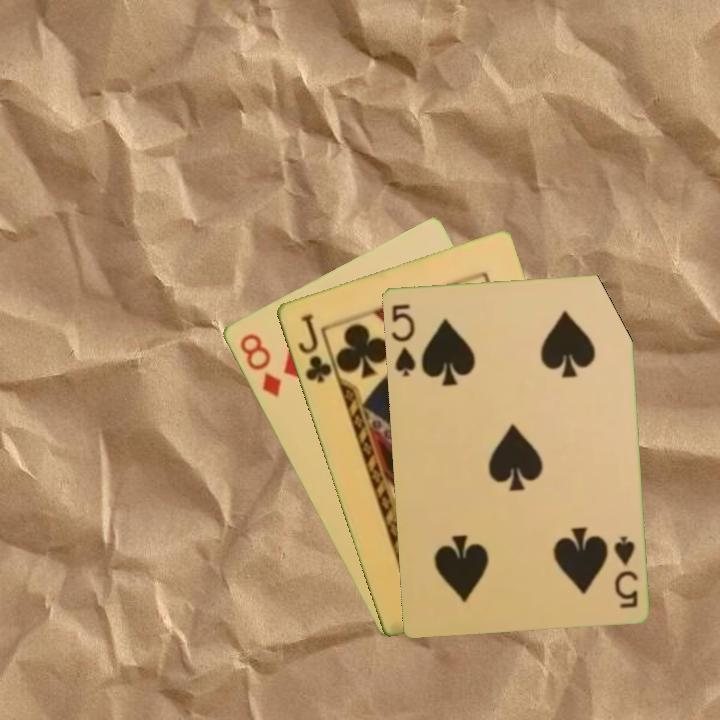5s: (387, 300, 418, 379), (610, 532, 640, 611)
8d: (235, 329, 284, 401)
Jc: (294, 310, 334, 386)
